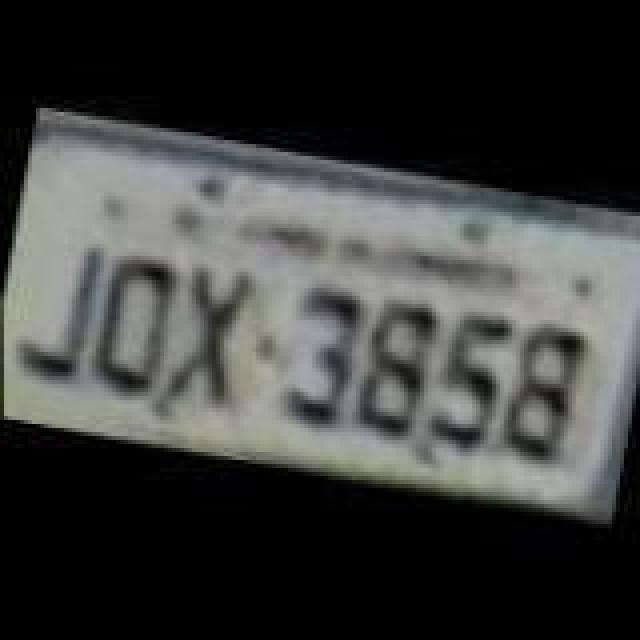3: (262, 278, 366, 434)
5: (416, 298, 516, 458)
8: (486, 314, 590, 474), (344, 288, 444, 448)
J: (4, 230, 112, 386)
O: (80, 250, 180, 402)
X: (158, 262, 262, 414)
